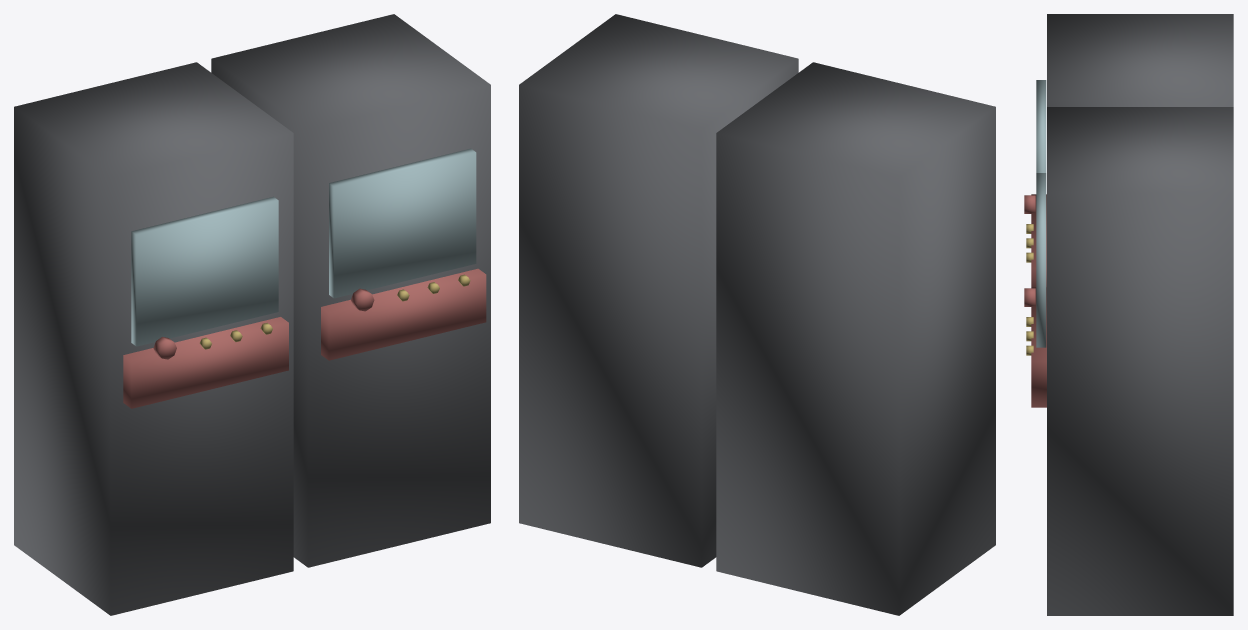
The model's file is cocktail_arcade__cluster.glb.
3 views of the same model, side by side, from view 1: azimuth 30°, elevation 25°; view 2: azimuth 150°, elevation 25°; view 3: azimuth 270°, elevation 25° (orthographic). The views are drawn at different scales.
Visible parts, largest first — view 1: world; view 2: world; view 3: world.
Boxes of the visible parts, x1,y1,x2,y2 form: world: [14, 14, 490, 615]; world: [519, 14, 995, 615]; world: [1024, 14, 1233, 615].
Size of the model in its own units: 1.5 by 1.65 by 0.74.
